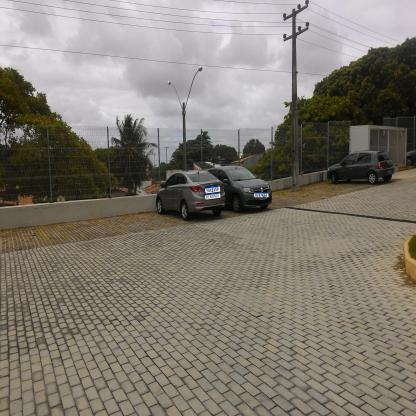PlacaM: (204, 185, 221, 194), (204, 192, 221, 200), (254, 192, 268, 198)
